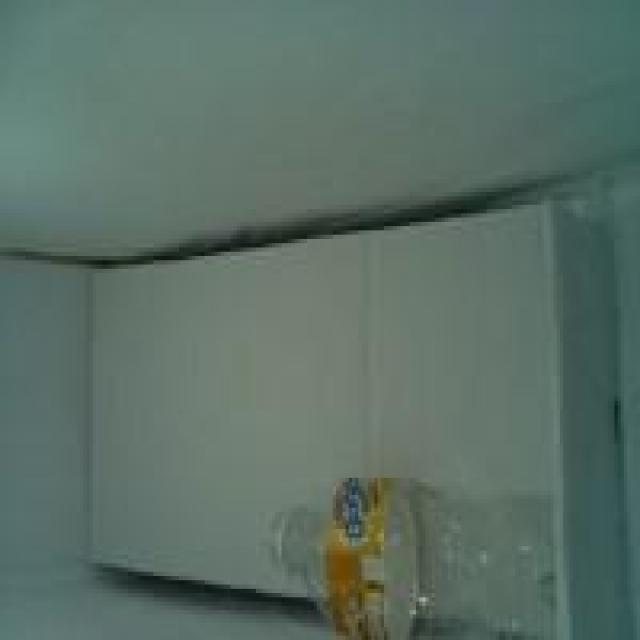bottle: (248, 443, 593, 640)
